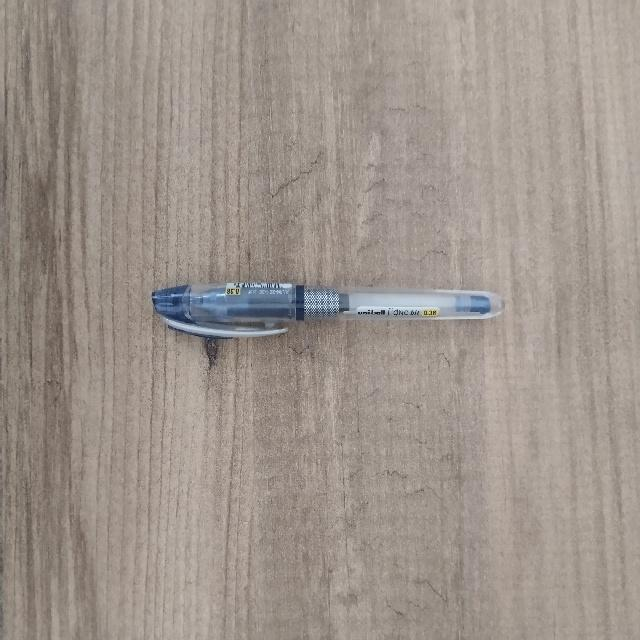pen: (152, 282, 503, 337)
